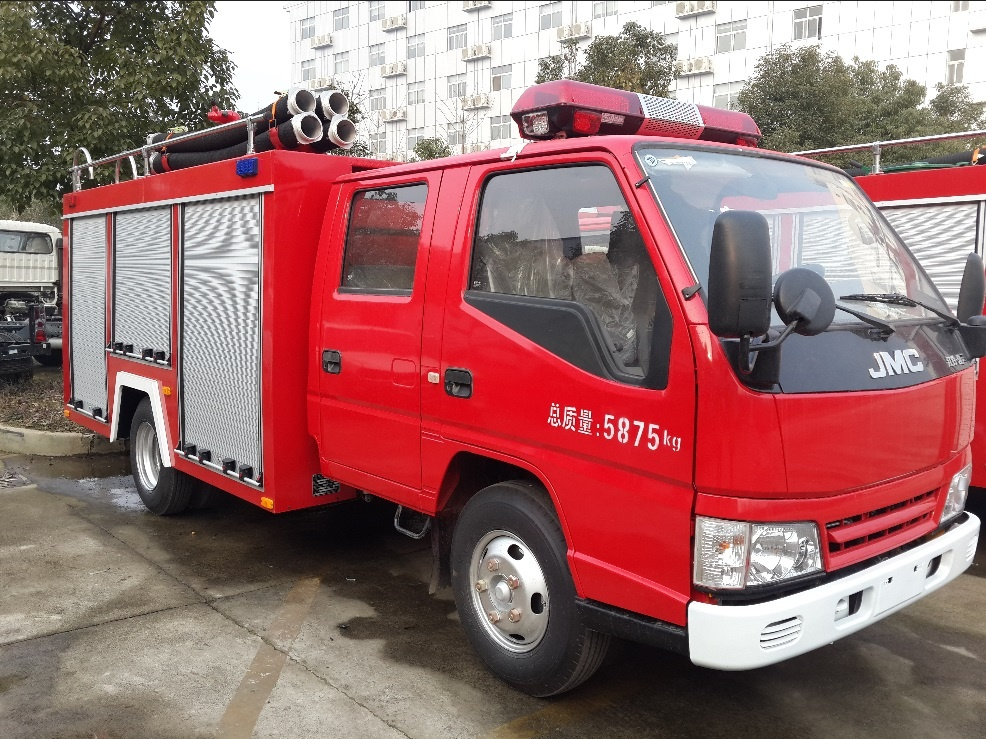fire engine: (47, 111, 970, 683)
